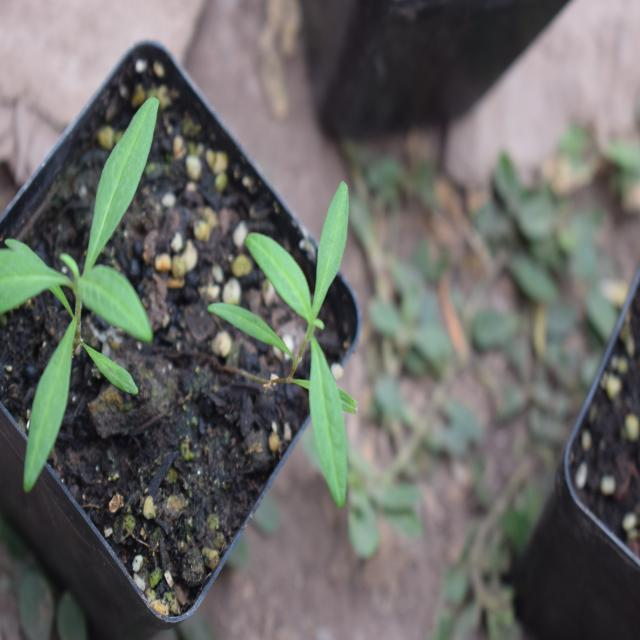white_smart_weed: (212, 188, 447, 528), (4, 97, 177, 425)
